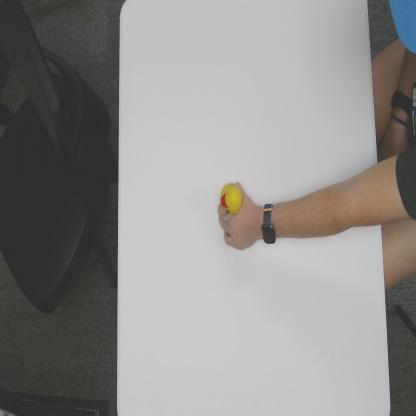Arm: (279, 163, 380, 242)
Duck: (220, 177, 243, 219)
Hand: (216, 181, 260, 250)
